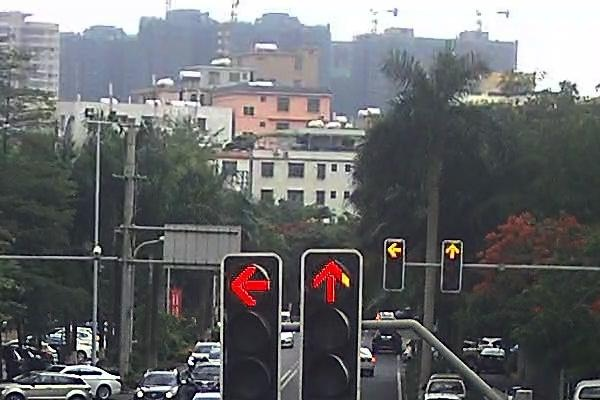redleft: (220, 256, 280, 305), (384, 239, 403, 259)
redstraight: (304, 250, 358, 304), (443, 241, 463, 261)
